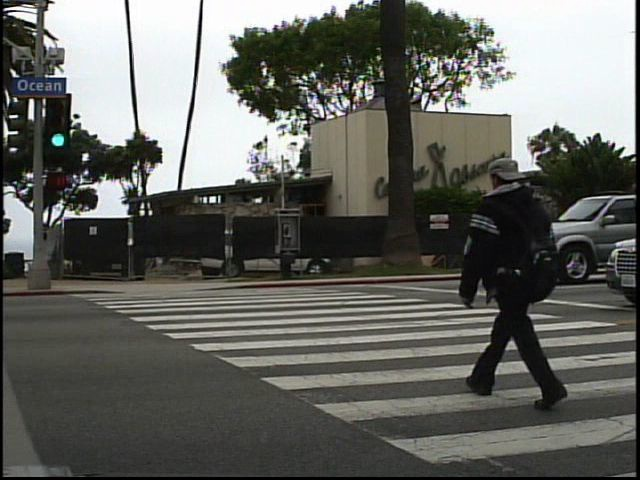person: (465, 139, 569, 405)
